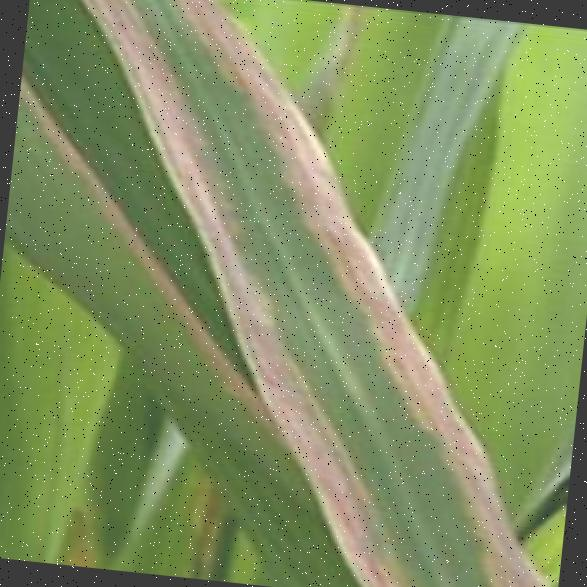Bacteria_Leaf_Blight: (249, 216, 562, 587)
